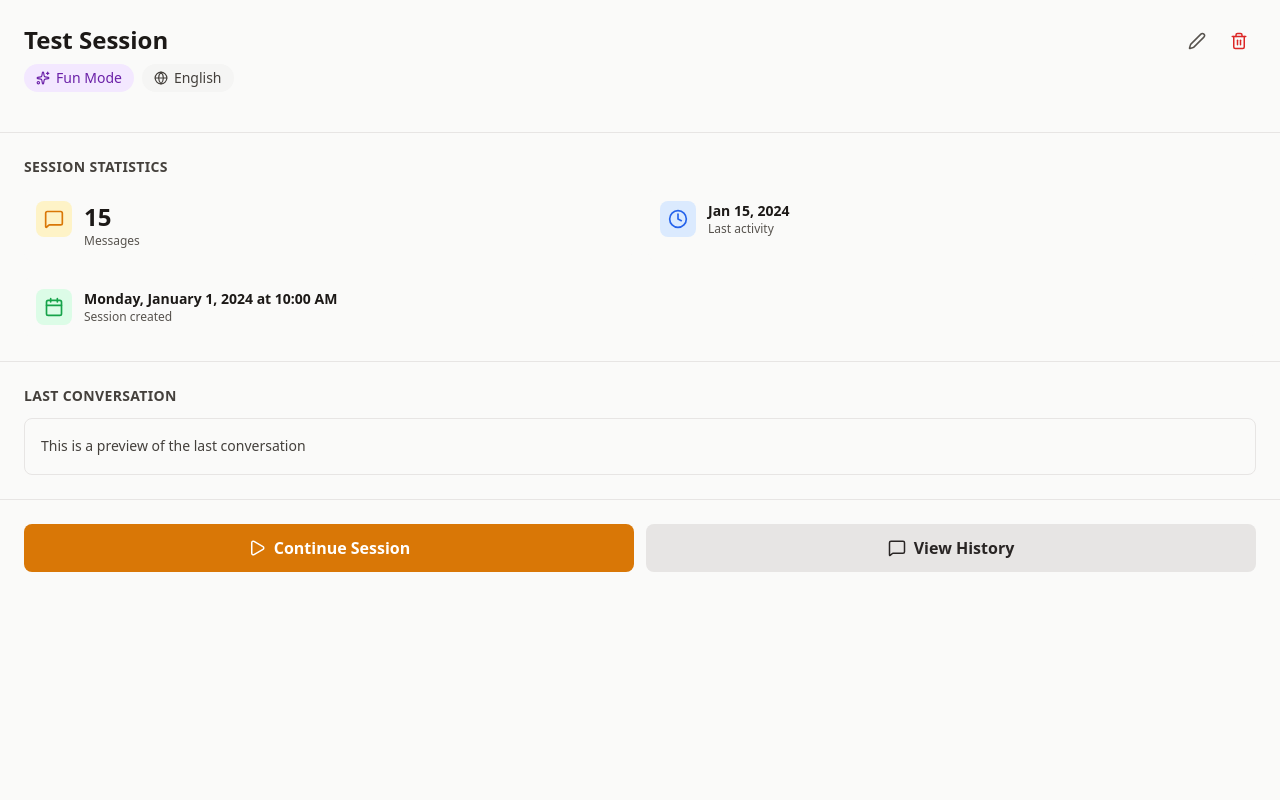
Test: SessionPreview Component › Edit Title Functionality › should close edit modal when Cancel is clicked
Click the button named "Edit session title" at (1197, 41), box x1=1180 y1=24 x2=1214 y2=58
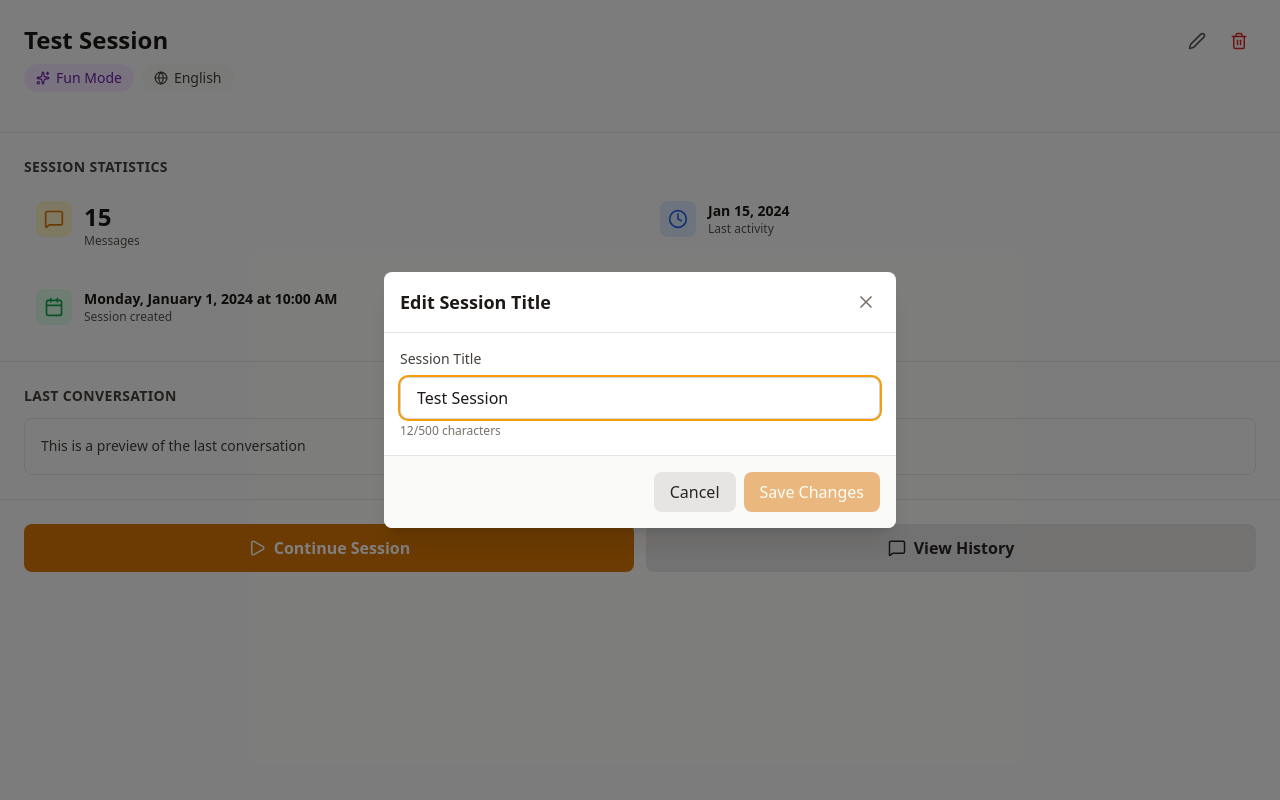
Result: the heading "Edit Session Title" is shown at x1=400 y1=288 x2=551 y2=316
Click the button "Cancel" at (695, 492), box x1=654 y1=472 x2=736 y2=512
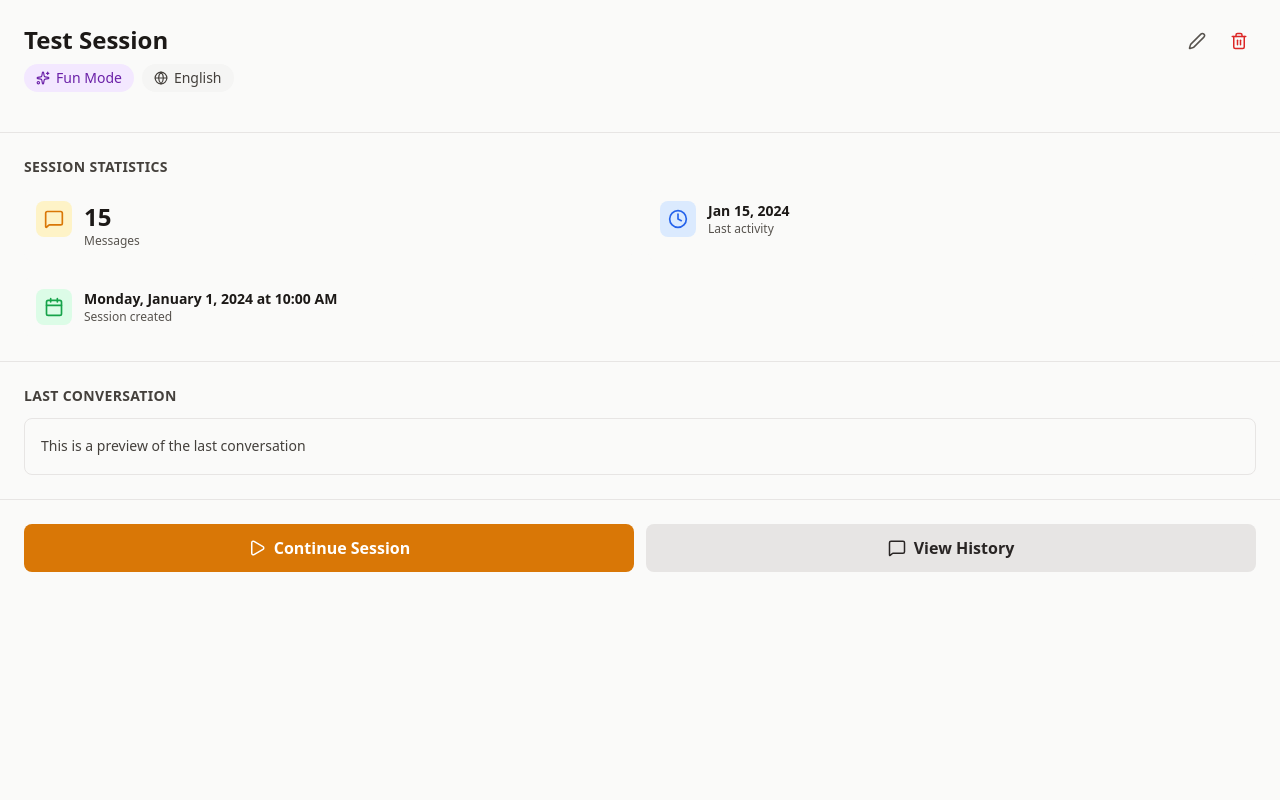
Result: the heading "Edit Session Title" is gone
